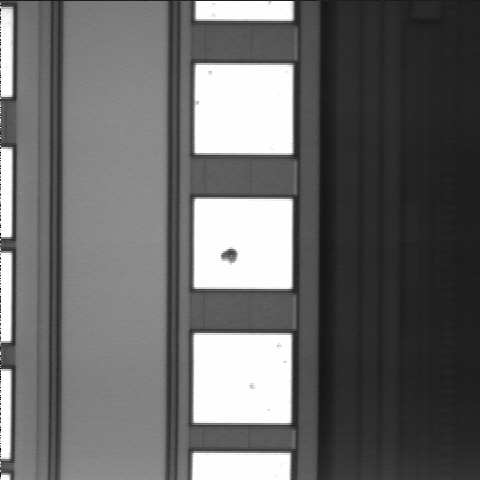pad: (195, 65, 293, 155), (194, 199, 292, 289), (193, 333, 291, 423)
